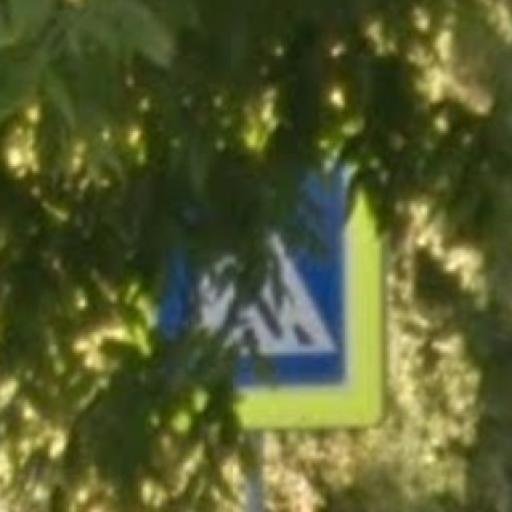traffic_sign: (147, 141, 389, 433)
